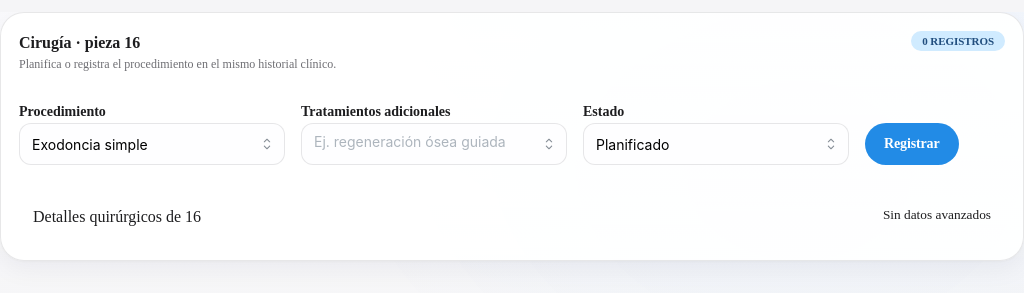
it: offers Regularización ósea in procedure selector
The image size is (1024, 293).
Step 1. Click the dropdown labelled "Procedimiento" → [152, 144], box [19, 123, 285, 165]
(page scrolled)
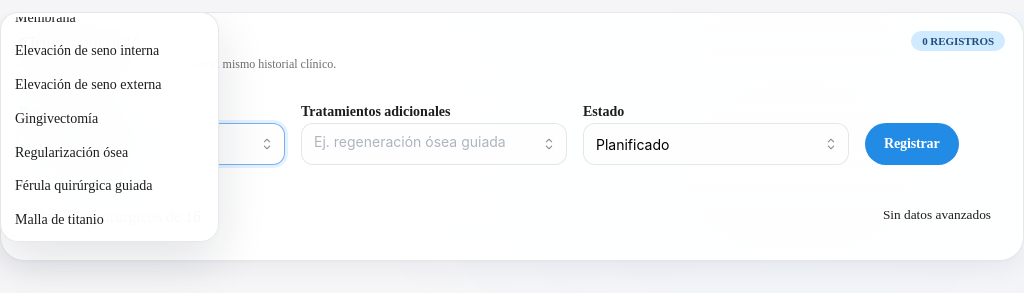
Check: the option "Regularización ósea" is shown, box [15, 144, 128, 160]
